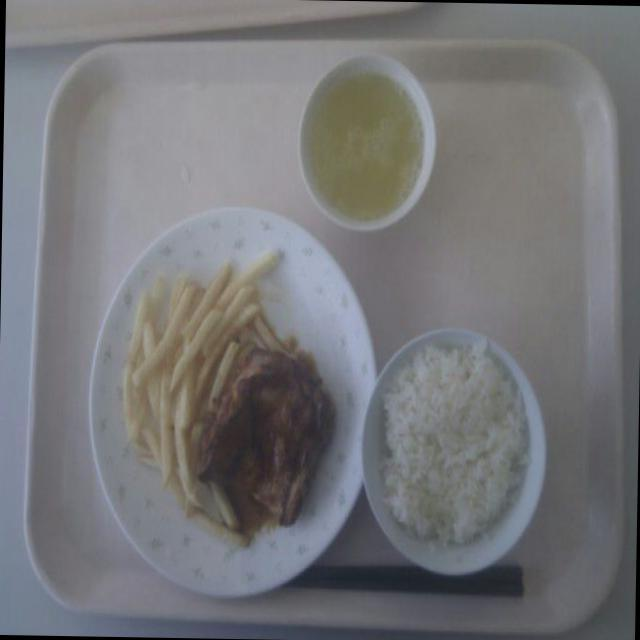Rice: (375, 344, 533, 540)
